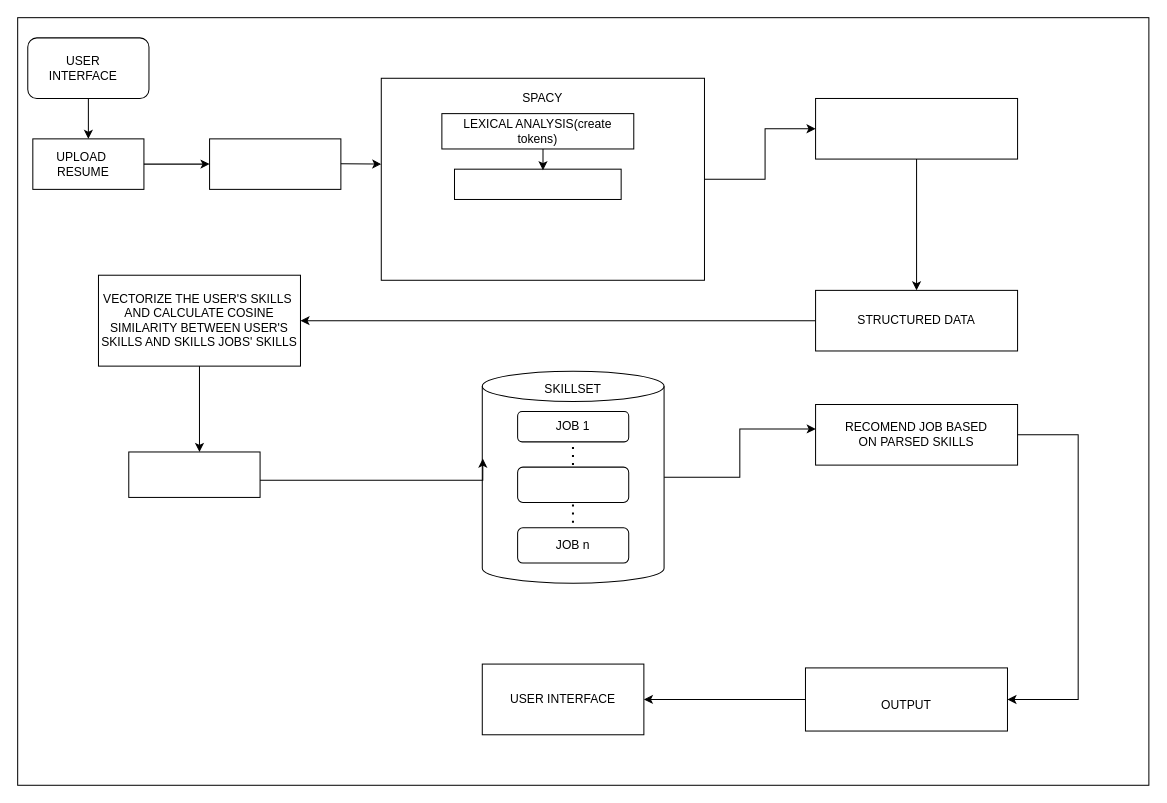
Image size: 1167x803. Some labels were removed from this diagram. The shapes that lost their labels are listed below. From the top down, each one's centre as x and y in pixels, then its label:
At [916,128]: "PARSER MODULE".
At [275,163]: "TEXT EXTRACTION".
At [537,183]: "LEXEMS/TOKENS".
At [194,474]: "RESUME SKILLSET".
At [573,484]: "JOB 2".
